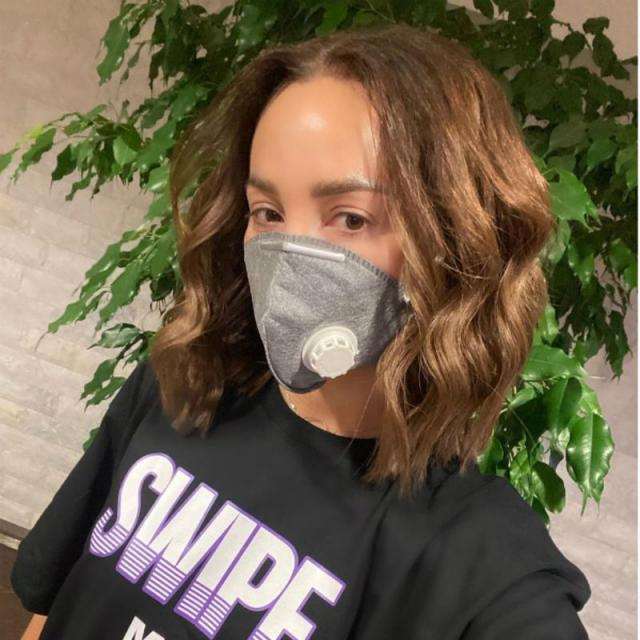Nonhelmet: (162, 22, 555, 421)
